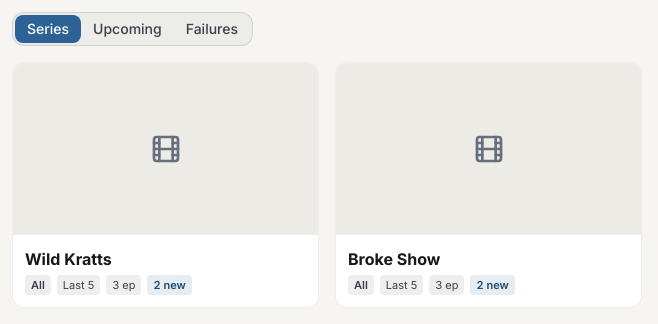
Test: Recordings page › Failures shows only series with failed recordings
The image size is (658, 324).
Check: the text "Wild Kratts" is shown, box [25,249,112,269]
Click the radio button labelled "Failures" at (212, 29), box [174,15,250,43]
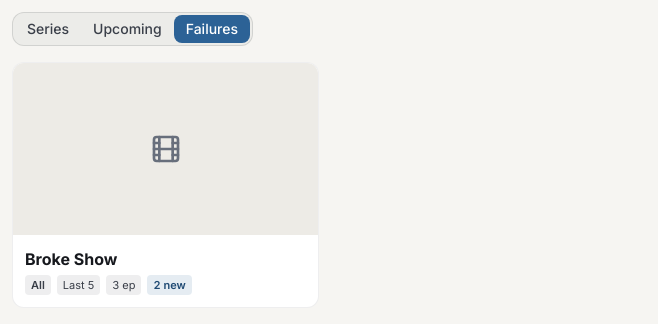
Check: the text "Broke Show" is shown, box [25,249,117,269]
Check: the button "Wild Kratts" is gone
